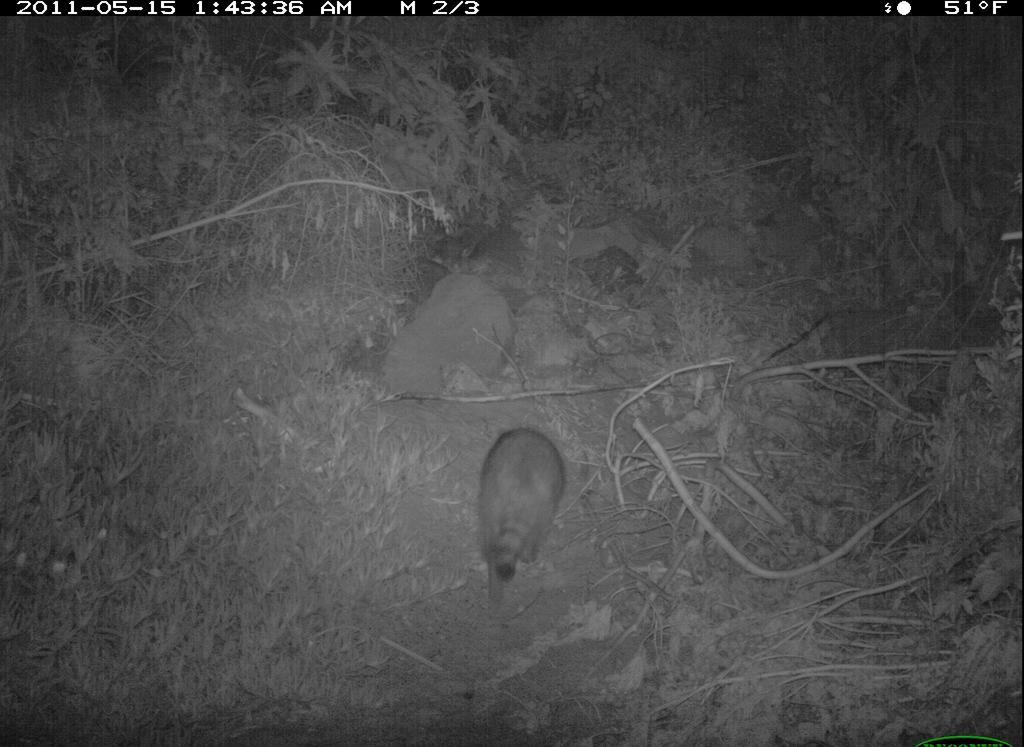raccoon: (469, 410, 579, 605)
